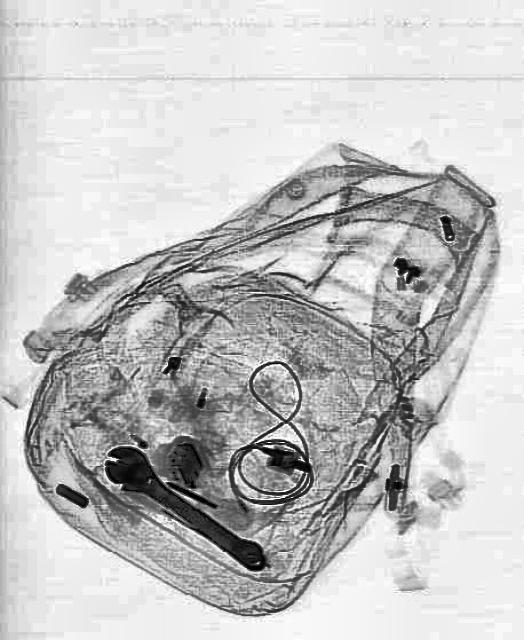Wrench: (94, 433, 274, 582)
